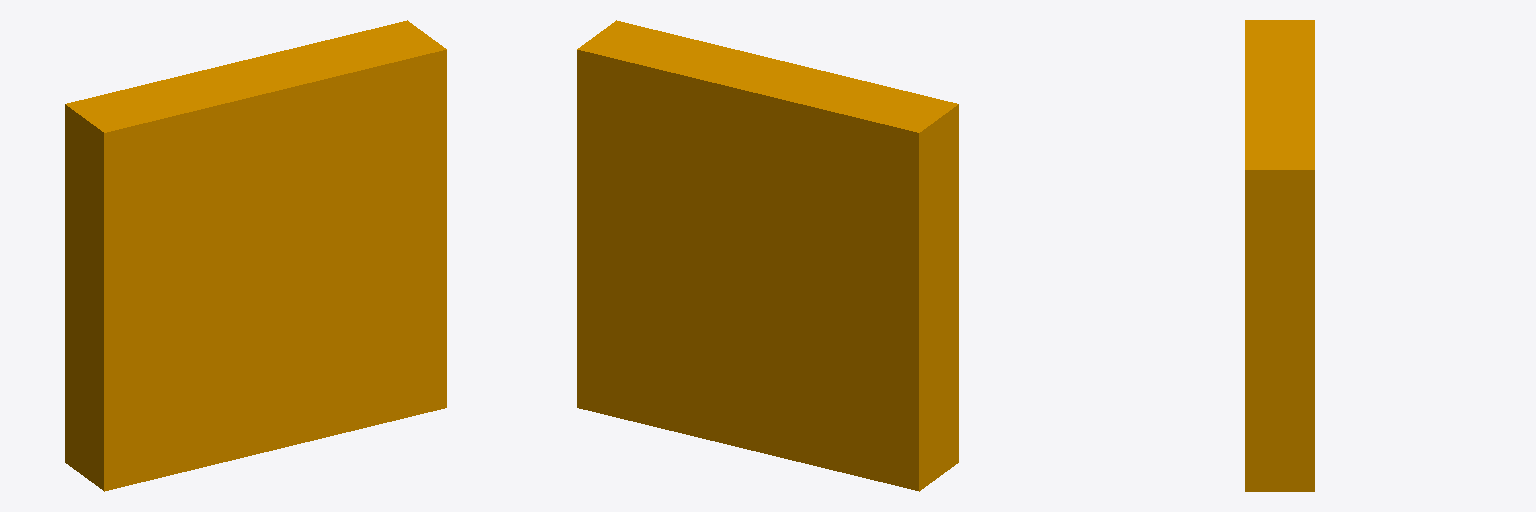
robot.urdf — score:
<?xml version="1.0"?>
<robot name="score">

  <material name="red">
    <color rgba="1 0 0 1"/>
  </material>           

  <material name="gris">
    <color rgba="0.8 0.8 0.702 1"/>
  </material>       

  <material name="blue">
    <color rgba="0.1 0.1 0.44 1"/>
  </material>


  <link name="base_robot">
    <visual>
        <geometry>
            <box size="0.5 0.1 0.5"/>
        </geometry>
        <origin xyz="0 0 0 " rpy="0 0 3.1415"/>
    </visual>
  
    <inertial>
        <mass value="20"/>
        <inertia ixx="1.0" ixy="0.0" ixz="0.0" iyy="1.0" iyz="0.0" izz="1.0"/>
    </inertial> 
  </link>

</robot>

--- Facts derived from the render (not from the file) ---
3 views of the same robot in one strip: view 1: azimuth 30°, elevation 25°; view 2: azimuth 150°, elevation 25°; view 3: azimuth 270°, elevation 25° (orthographic).
Model score with 1 links and 0 joints (none), rooted at base_robot, posed every joint at zero.
Links seen in each view (by area): view 1: base_robot; view 2: base_robot; view 3: base_robot.
Boxes of the visible links, box(x1,y1,x2,y2) form: base_robot: box(65, 20, 446, 491); base_robot: box(577, 20, 958, 491); base_robot: box(1245, 20, 1314, 491).
Size in the robot's own frame: 0.5 by 0.1 by 0.5 metres.
Geometry: primitives only (box / cylinder / sphere), no mesh files.